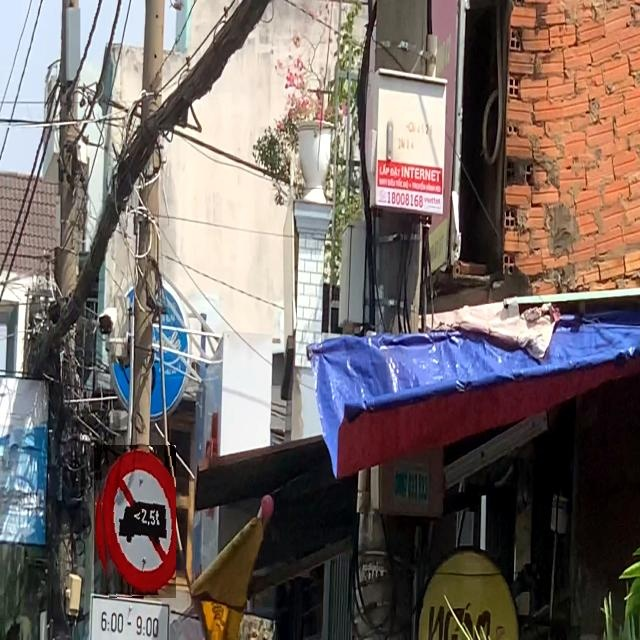bien_cam: (94, 445, 176, 598)
